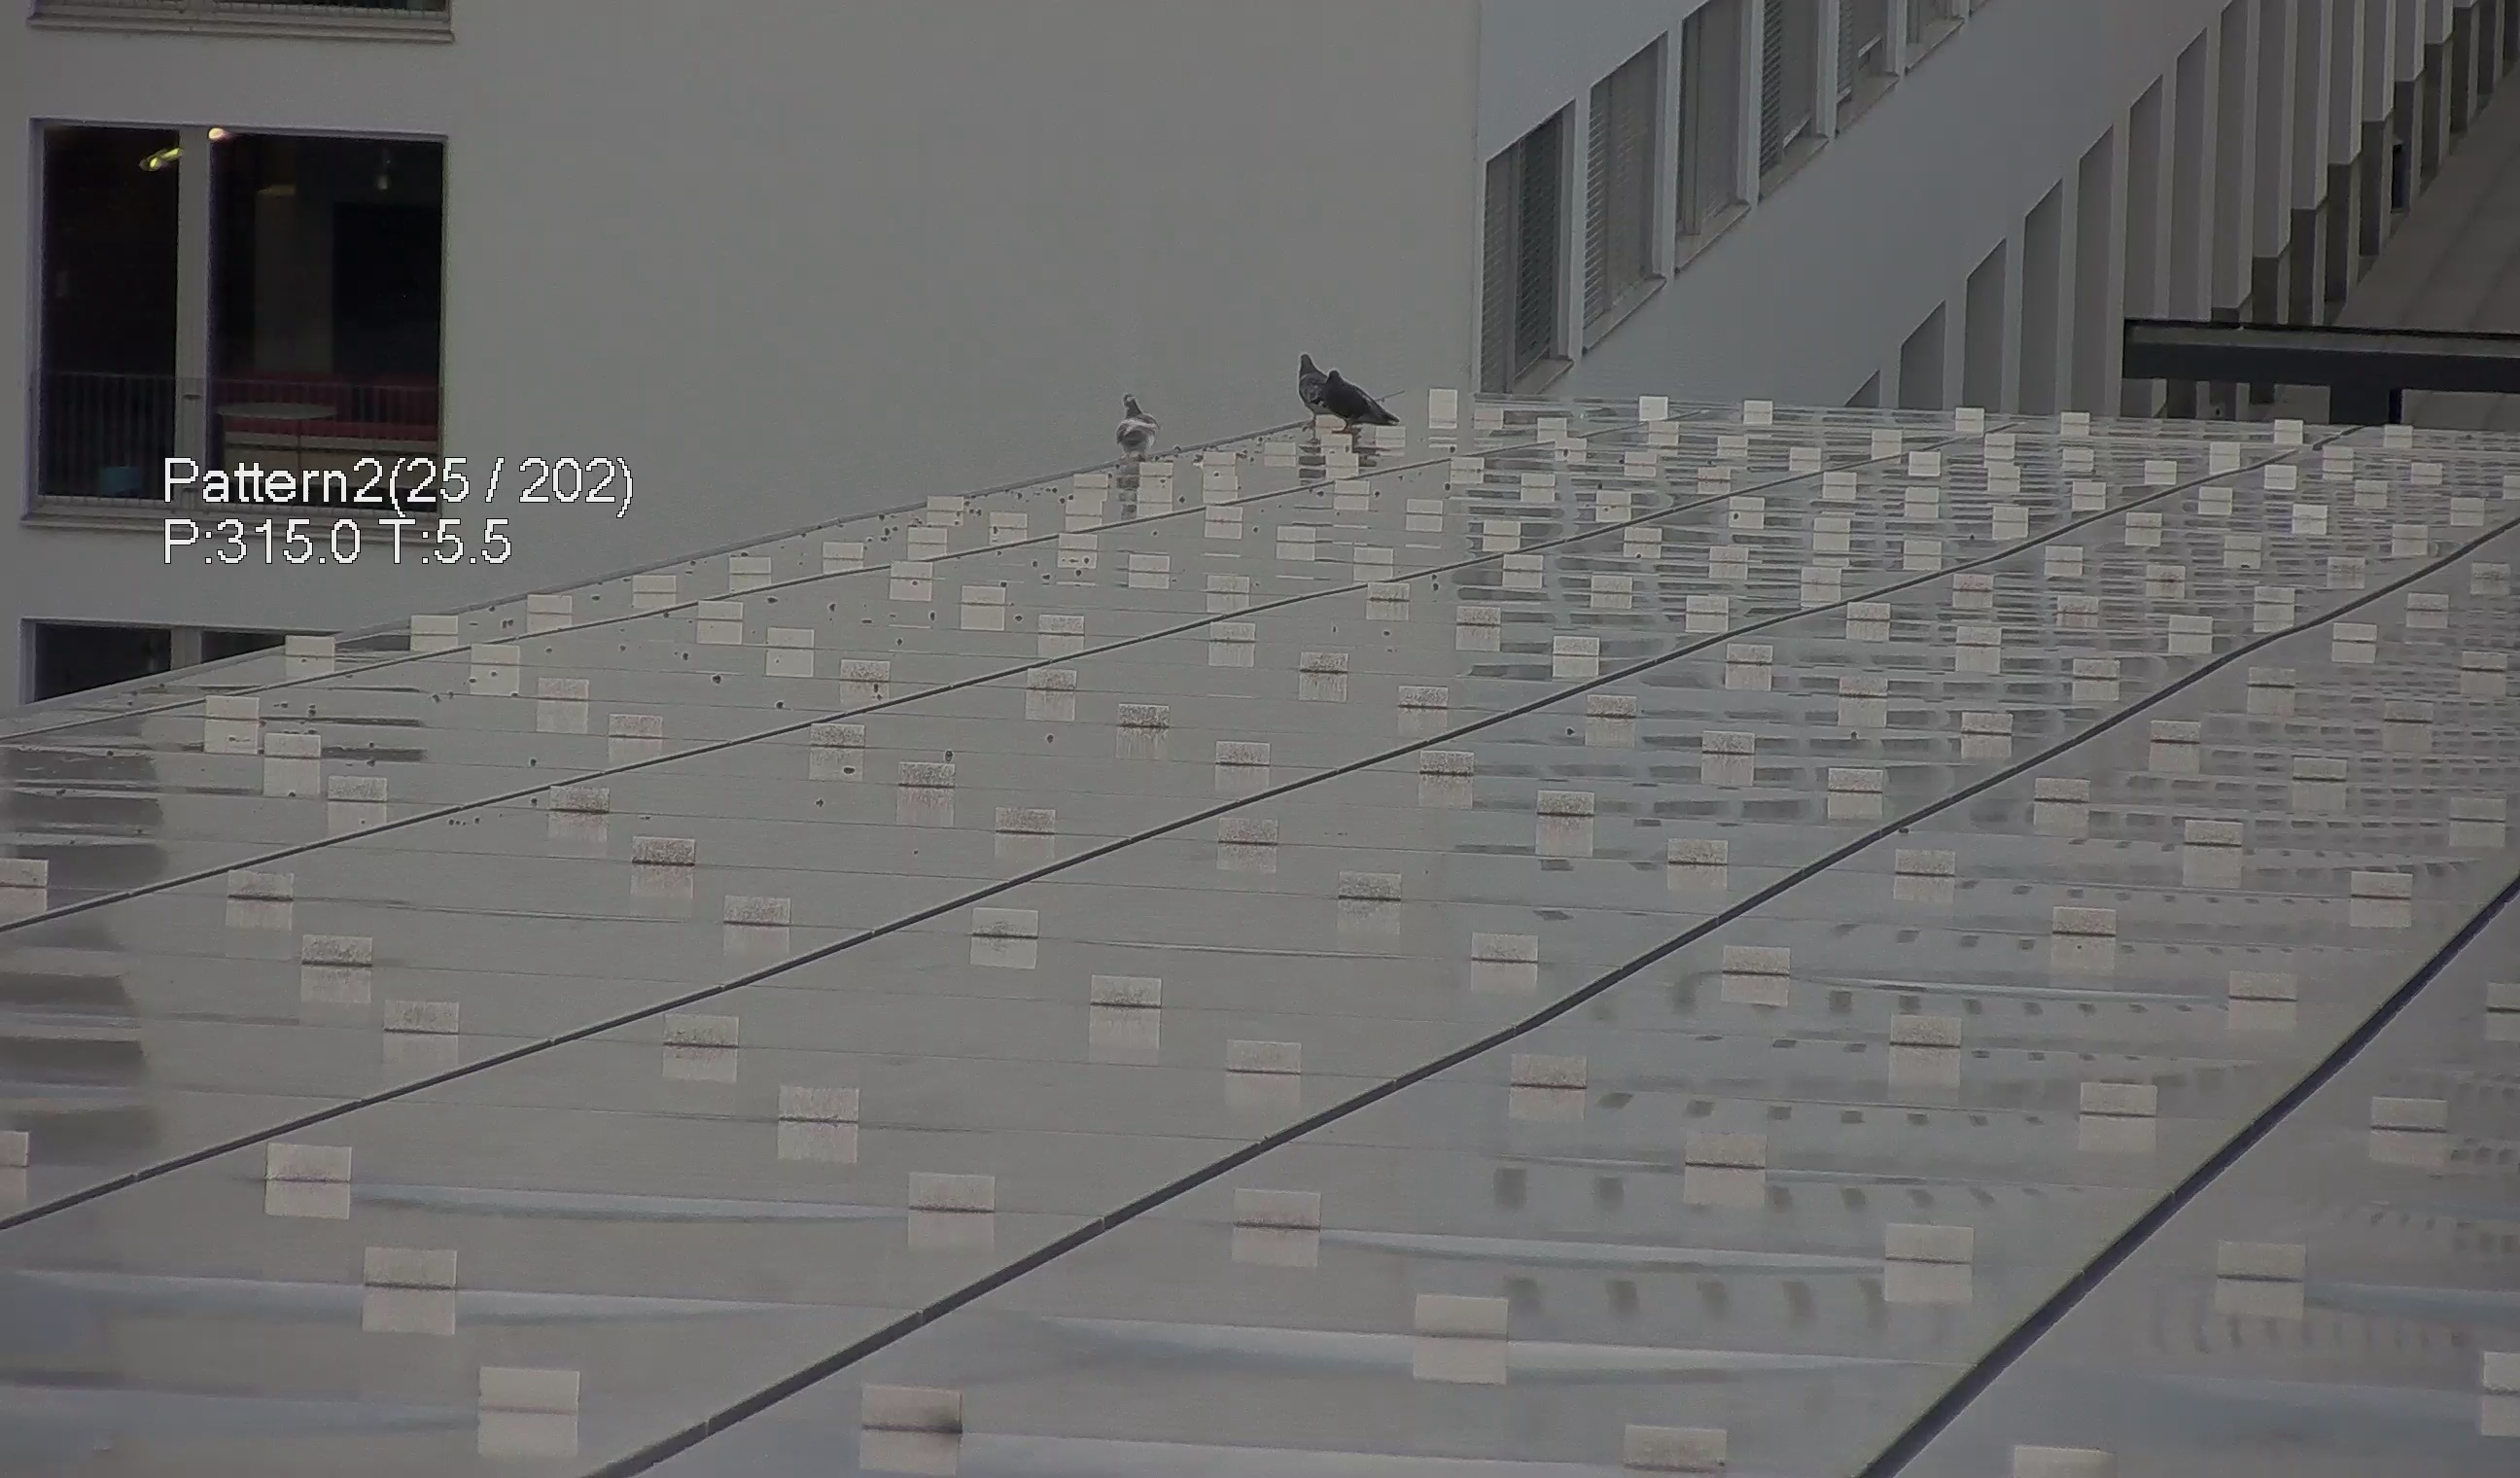Pigeon: (1291, 336, 1405, 447), (1101, 389, 1166, 473), (1284, 347, 1344, 429)
